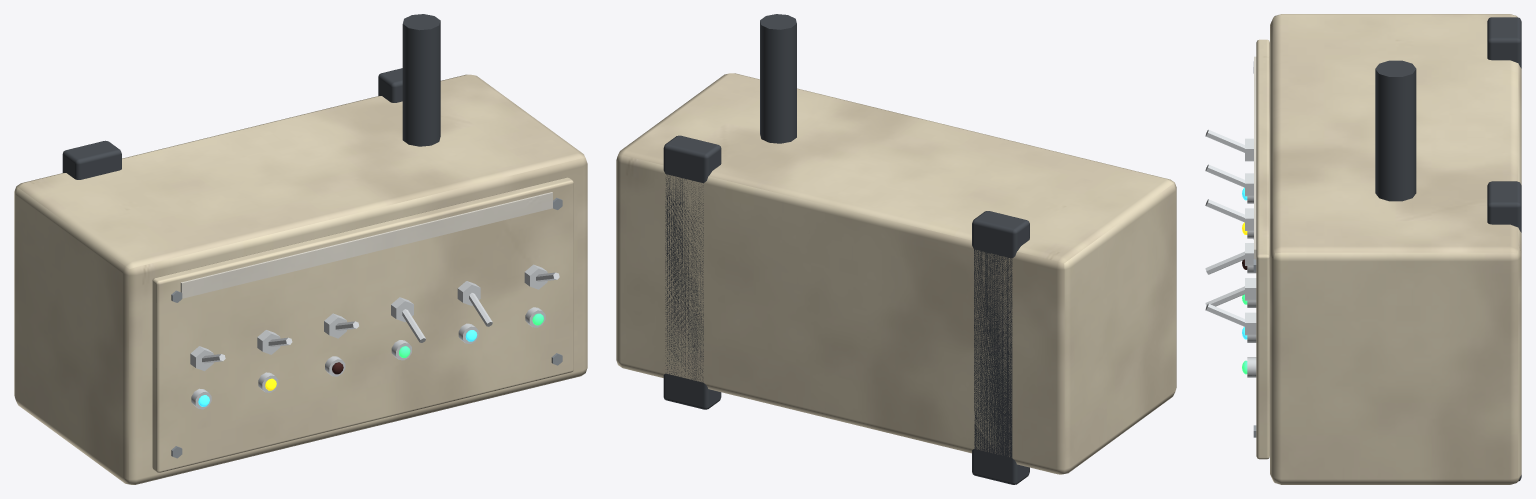
File: WallBox_50_0.glb
3 views of the same model, side by side, from view 1: azimuth 30°, elevation 25°; view 2: azimuth 150°, elevation 25°; view 3: azimuth 270°, elevation 25° (orthographic). The views are drawn at different scales.
Parts seen in each view (by area): view 1: WallBox_50_0_Body; view 2: WallBox_50_0_Body; view 3: WallBox_50_0_Body.
Boxes of the visible parts, bbox=[...] form: WallBox_50_0_Body: bbox=[14, 14, 587, 484]; WallBox_50_0_Body: bbox=[616, 14, 1176, 484]; WallBox_50_0_Body: bbox=[1205, 14, 1521, 484].
Size of the model in its own units: 0.5 by 0.37 by 0.2766.
Materials: 9 (2 with a texture image).
